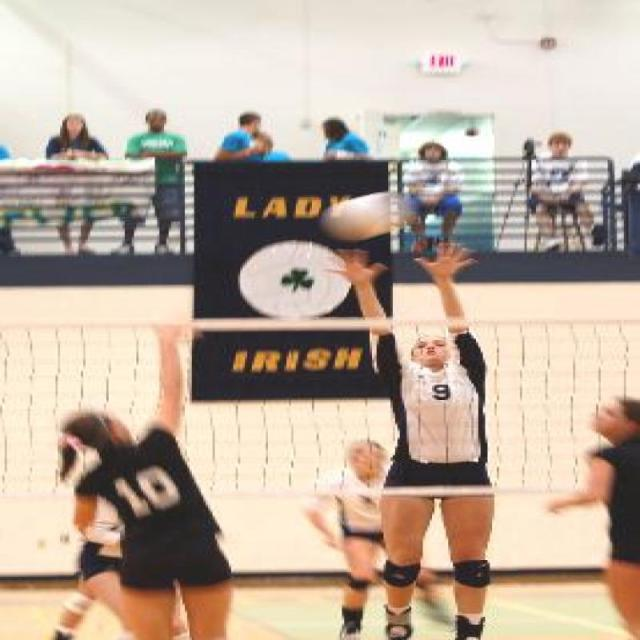volleyball: (326, 188, 420, 242)
